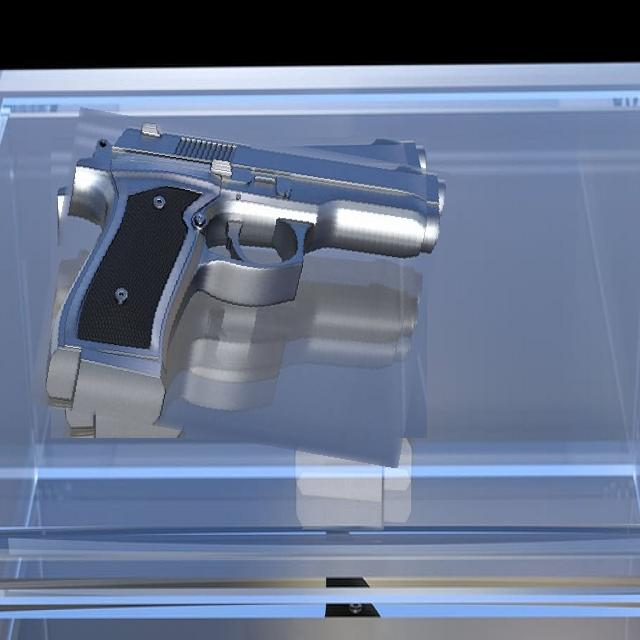gun: (40, 122, 438, 453)
